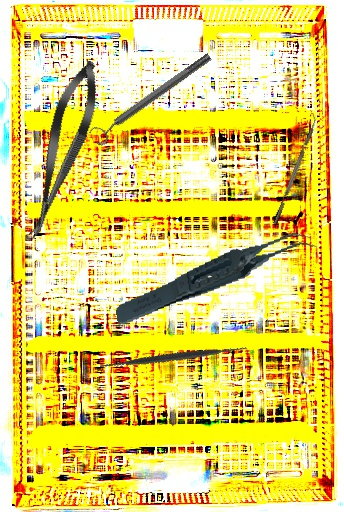Chopper: (267, 112, 321, 225)
Fixation Ring: (87, 48, 217, 148)
Micro Scissor: (14, 55, 110, 247)
Spatula Surgical: (94, 278, 253, 437)
Tissue Forceps: (108, 230, 324, 327)
